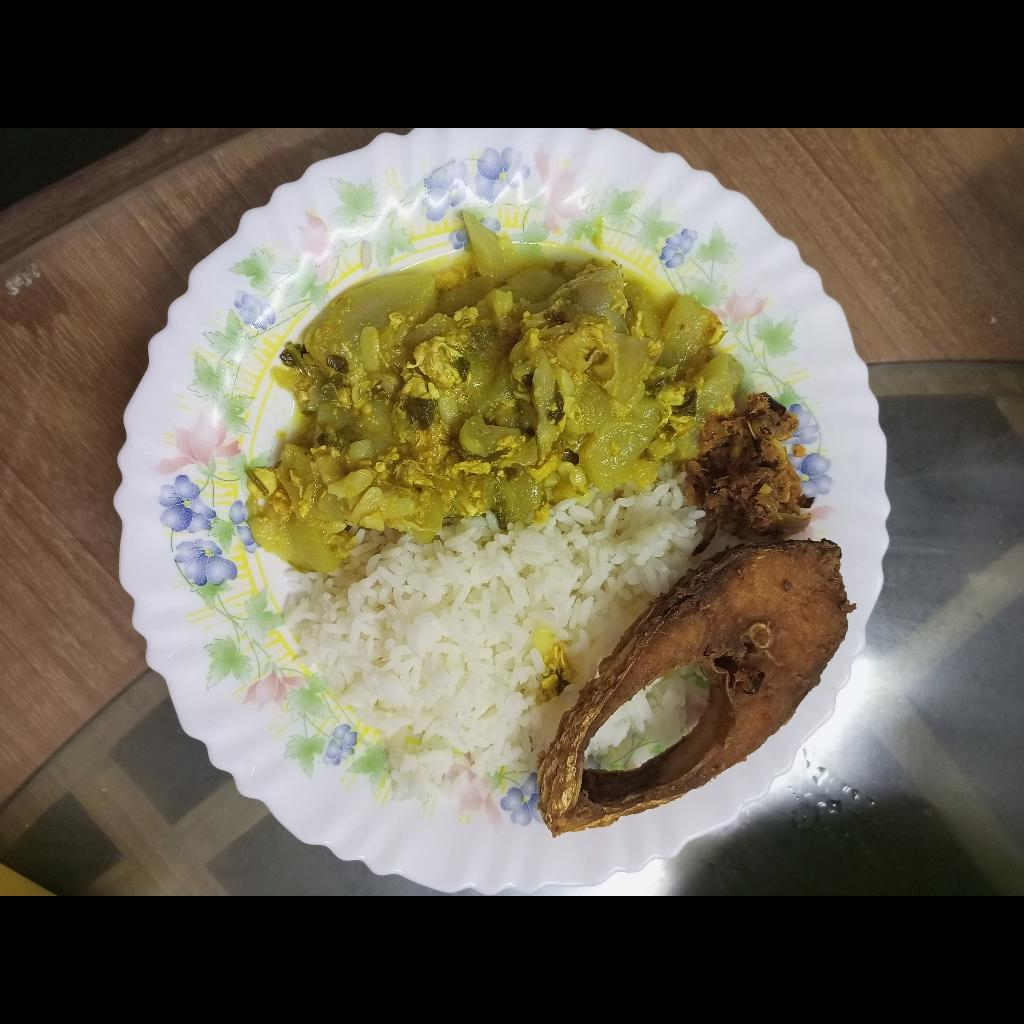fish: (537, 540, 851, 839), (689, 390, 807, 542)
lau: (238, 212, 744, 570)
rice: (286, 483, 703, 780)
